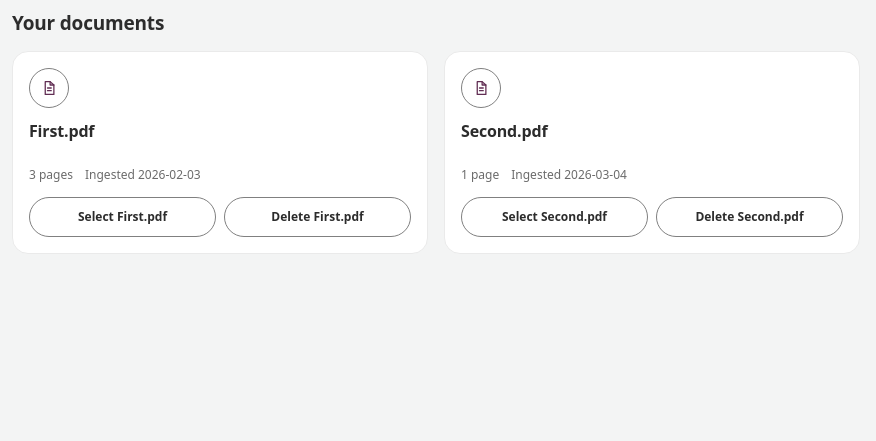
Test: DocumentList › deletes only after the confirmation is accepted
Click the button "Delete First.pdf": click(318, 217) [224,197,411,237]
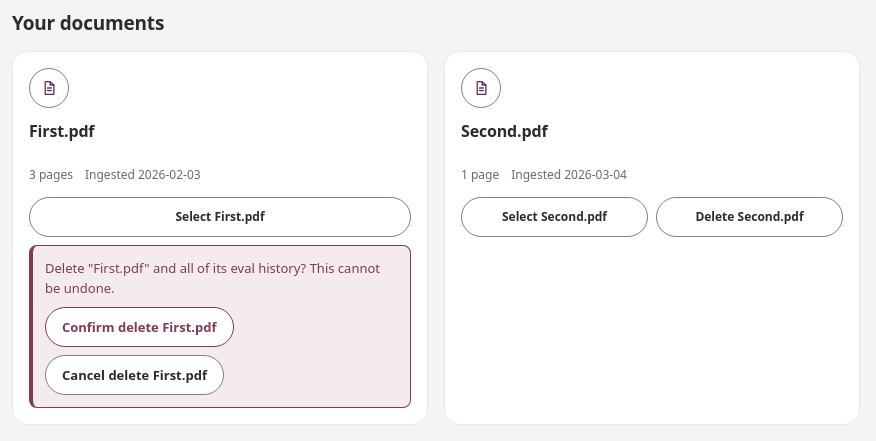
Now the text "Delete \"First.pdf\"" is shown, box [45,258,398,299]
Click the button "Confirm delete First.pdf": click(139, 327) [45,307,234,347]
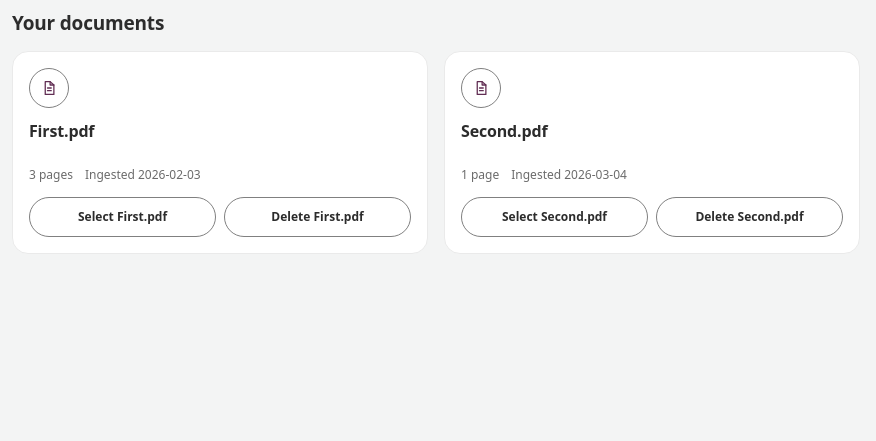
Now the button "Confirm delete First.pdf" is gone
